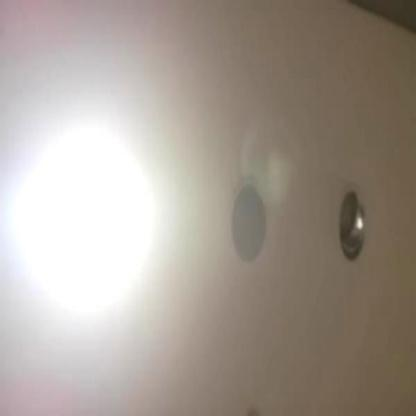light_off: (324, 170, 375, 275)
